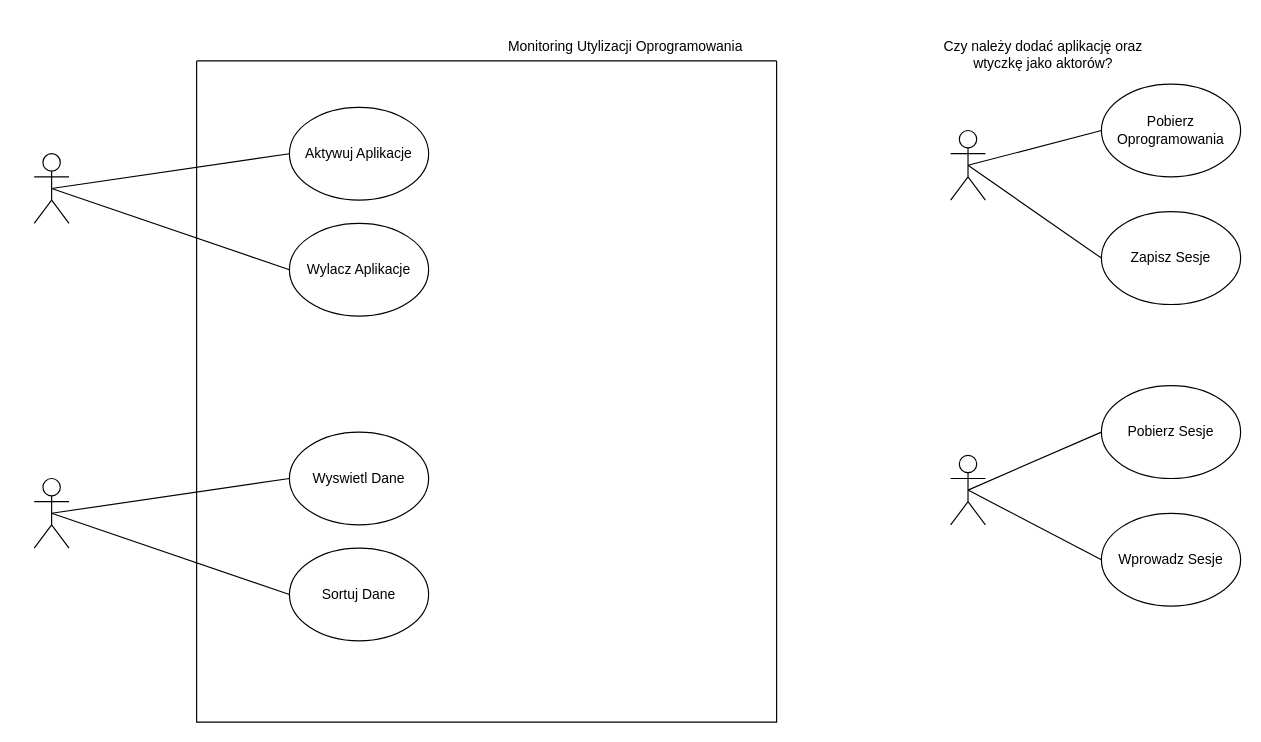
This 1261x742 diagram has some shape labels left out. Each missing label, with the centre of its shape:
"Aplikacja" belongs at point 967,164.
"Manadżer" belongs at point 51,512.
"Pracownik" belongs at point 51,188.
"Wtyczka" belongs at point 967,489.
